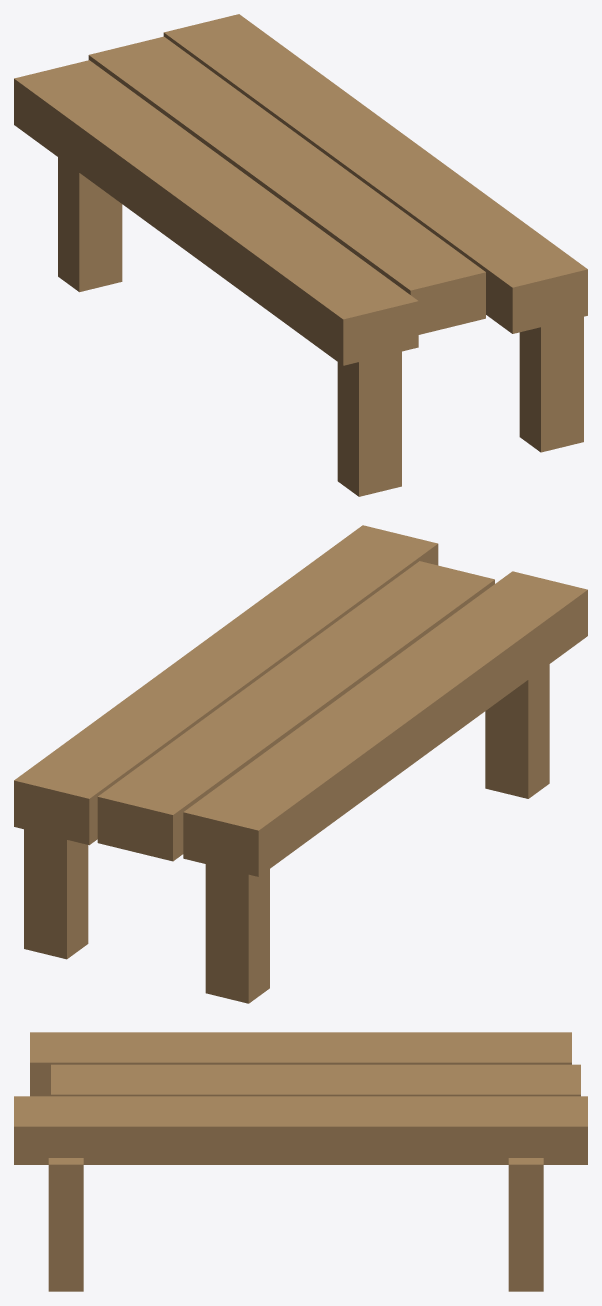
File: TableLP.fbx
The picture shows the model from 3 angles, top to bottom: view 1: azimuth 30°, elevation 25°; view 2: azimuth 150°, elevation 25°; view 3: azimuth 270°, elevation 25°; orthographic projection. The views are drawn at different scales.
Visible parts, largest first — view 1: table; view 2: table; view 3: table.
Boxes of the visible parts, box(x1,y1,x2,y2) form: table: box(14, 14, 587, 496); table: box(14, 525, 587, 1003); table: box(14, 1032, 587, 1291).
Bounding box in the file's own units: 121 × 88.58 × 291.
